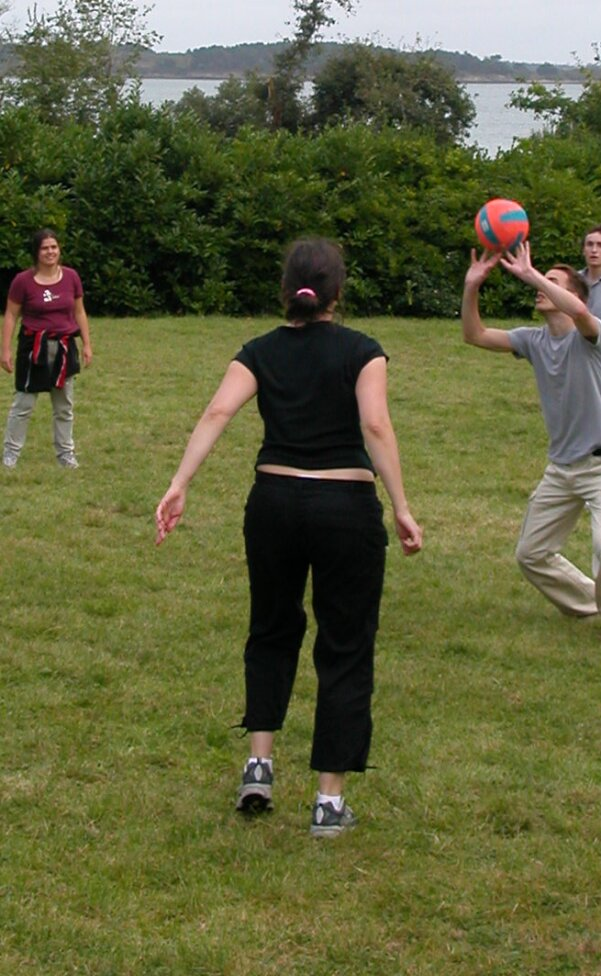person: (219, 228, 427, 834), (492, 262, 601, 606), (1, 232, 99, 471)
